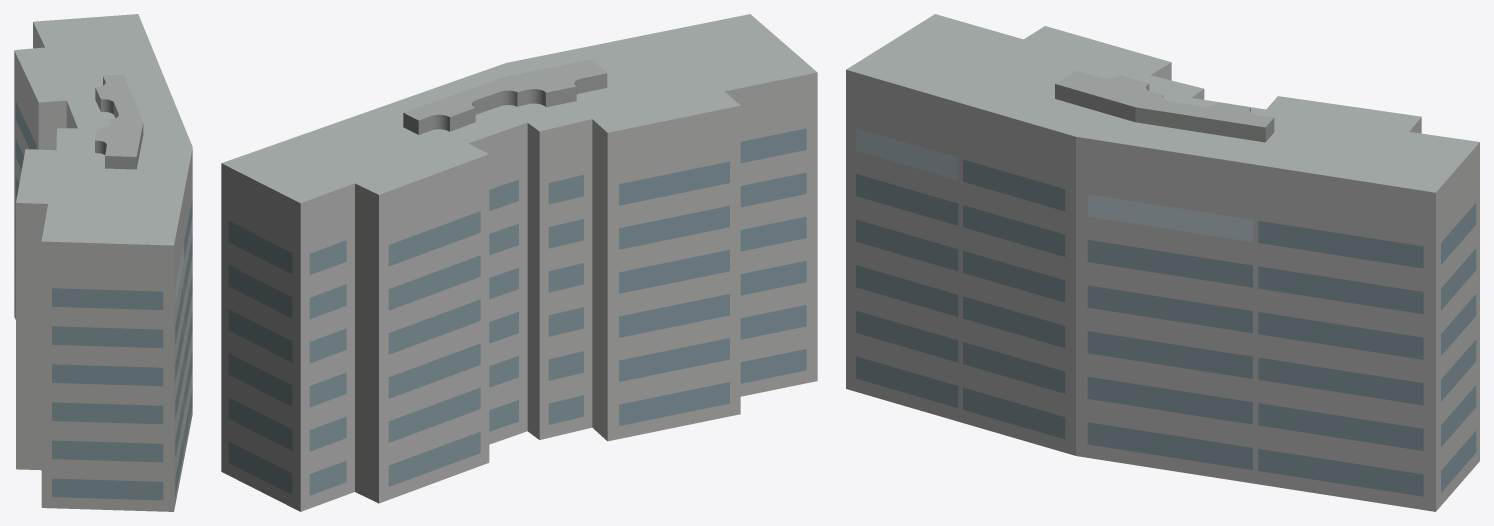
The model's file is fallback-gaepo-raemian-forest-125.glb.
3 renders of one model, left to right at view 1: azimuth 30°, elevation 25°; view 2: azimuth 150°, elevation 25°; view 3: azimuth 270°, elevation 25°, orthographic. The views are drawn at different scales.
Visible parts, largest first — view 1: fallback-gaepo-raemian-forest-125; view 2: fallback-gaepo-raemian-forest-125; view 3: fallback-gaepo-raemian-forest-125.
Part boxes in pixels (box(x1,y1,x2,y2)): fallback-gaepo-raemian-forest-125: box(14, 14, 192, 511); fallback-gaepo-raemian-forest-125: box(221, 14, 817, 511); fallback-gaepo-raemian-forest-125: box(846, 14, 1479, 511).
Size of the model in its own units: 27.53 by 24 by 41.25.
